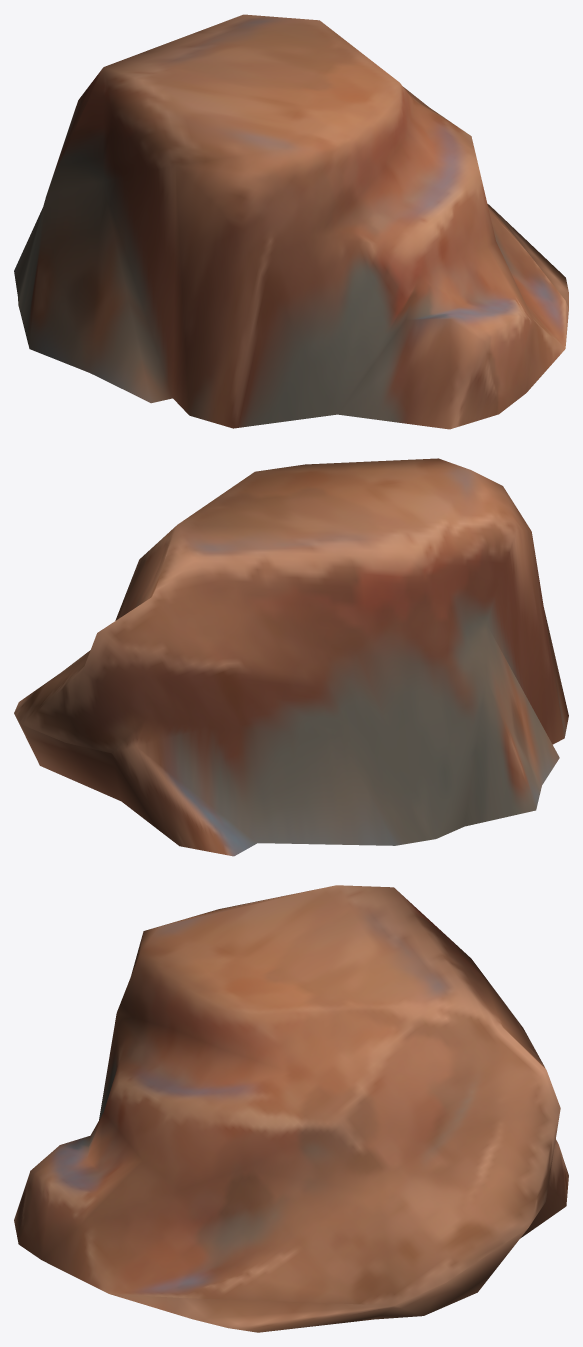
Rendered from rock_new03.FBX.
3 renders of one model, top to bottom at view 1: azimuth 30°, elevation 25°; view 2: azimuth 150°, elevation 25°; view 3: azimuth 270°, elevation 25°, orthographic. The views are drawn at different scales.
Parts seen in each view (by area): view 1: rock_new03; view 2: rock_new03; view 3: rock_new03.
Boxes of the visible parts, <box> form: rock_new03: <box>14,14,568,429</box>; rock_new03: <box>14,458,568,856</box>; rock_new03: <box>14,885,568,1332</box>.
Size of the model in its own units: 667 by 344 by 656.
1 material, 1 textured.
